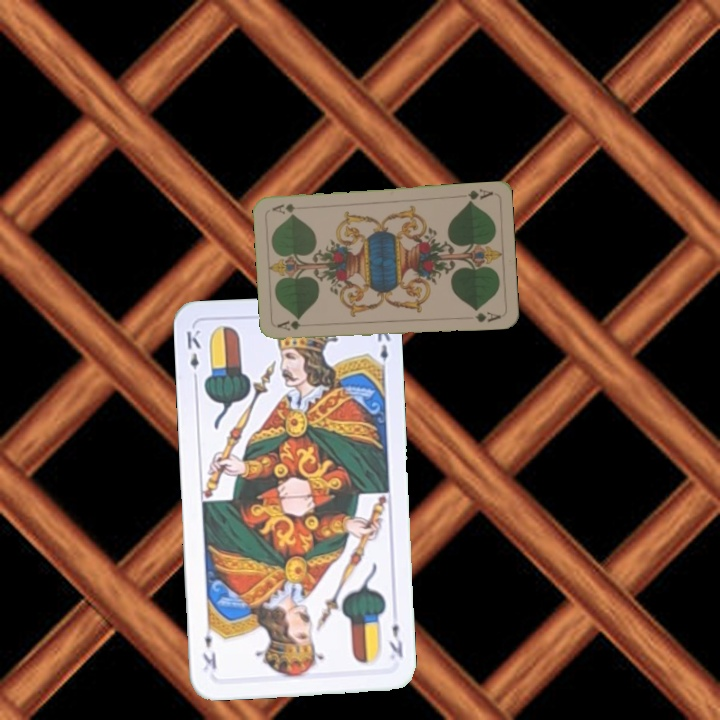EK: (182, 325, 203, 385), (385, 619, 406, 660)
GA: (464, 185, 496, 206), (274, 317, 303, 333)
